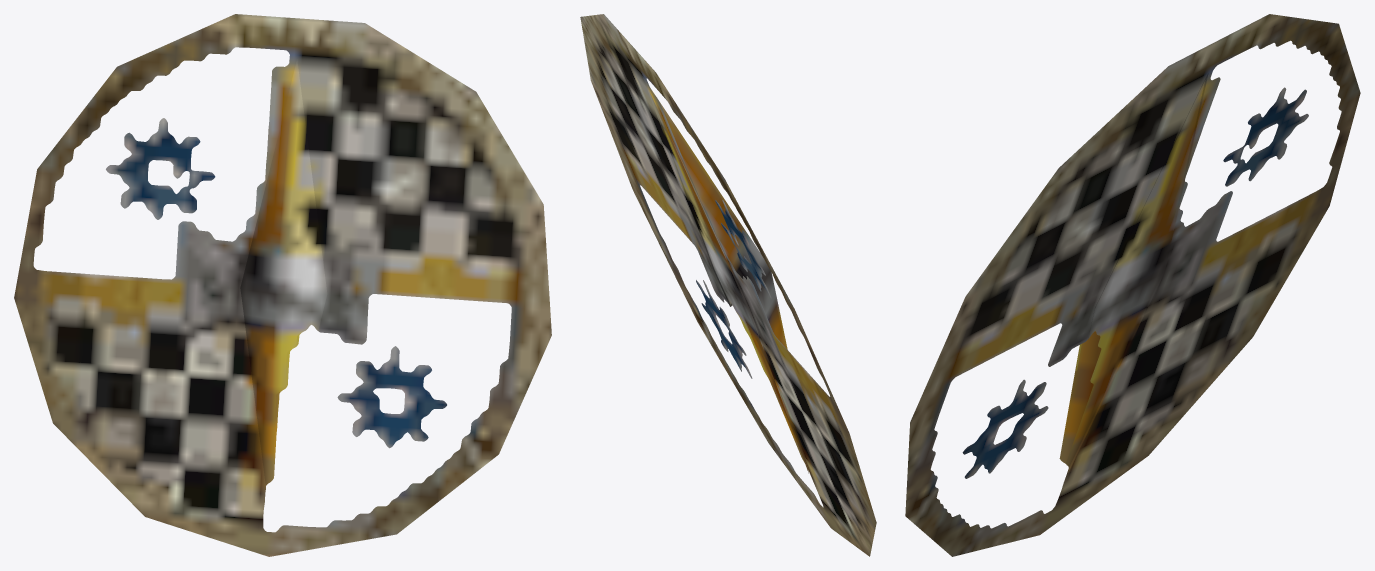
File: celt_house_c_shield2.dae
3 renders of one model, left to right at view 1: azimuth 30°, elevation 25°; view 2: azimuth 150°, elevation 25°; view 3: azimuth 270°, elevation 25°, orthographic. The views are drawn at different scales.
Parts seen in each view (by area): view 1: Cylinder28-Pivot; view 2: Cylinder28-Pivot; view 3: Cylinder28-Pivot.
Boxes of the visible parts, x1,y1,x2,y2 form: Cylinder28-Pivot: (14,14,551,556); Cylinder28-Pivot: (580,14,876,556); Cylinder28-Pivot: (905,14,1360,556).
Bounding box in the file's own units: 1.37 × 1.17 × 1.58.
